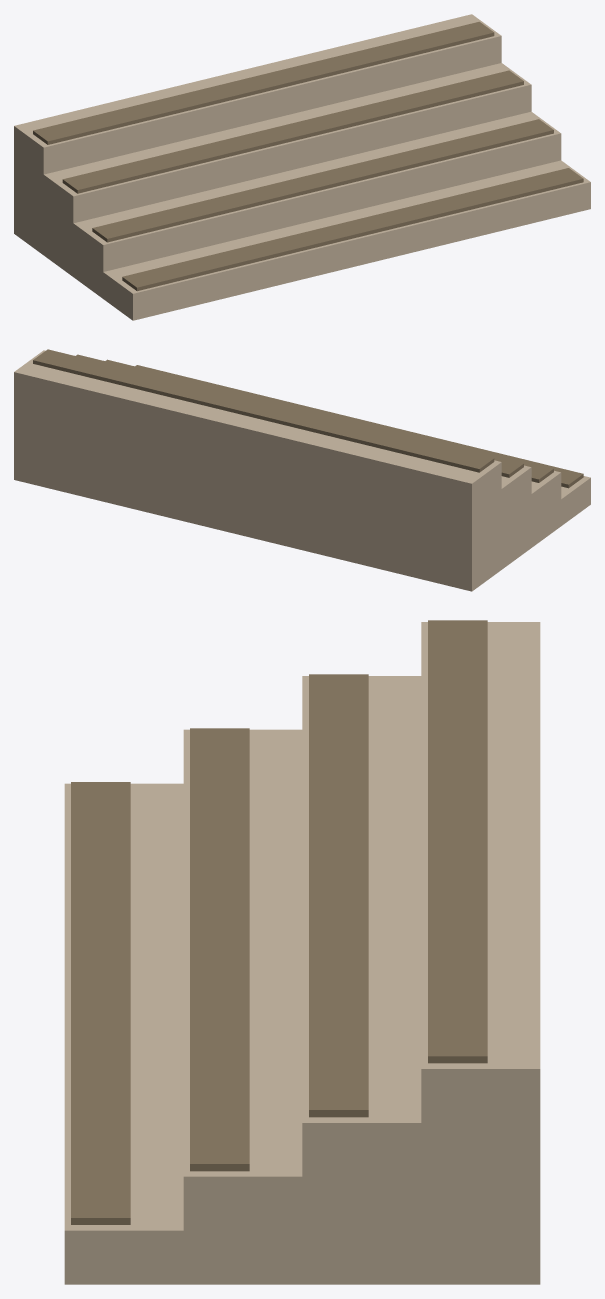
Rendered from city_hall_seating.glb.
The picture shows the model from 3 angles, top to bottom: view 1: azimuth 30°, elevation 25°; view 2: azimuth 150°, elevation 25°; view 3: azimuth 270°, elevation 25°; orthographic projection. The views are drawn at different scales.
Parts seen in each view (by area): view 1: CityHallSeating_Tiers, CityHallSeating_Seat0, CityHallSeating_Seat3, CityHallSeating_Seat2, CityHallSeating_Seat1; view 2: CityHallSeating_Tiers, CityHallSeating_Seat3, CityHallSeating_Seat2, CityHallSeating_Seat1, CityHallSeating_Seat0; view 3: CityHallSeating_Tiers, CityHallSeating_Seat1, CityHallSeating_Seat2, CityHallSeating_Seat3, CityHallSeating_Seat0.
Boxes of the visible parts, bbox=[...] form: CityHallSeating_Tiers: bbox=[14, 14, 590, 320]; CityHallSeating_Seat0: bbox=[122, 168, 583, 291]; CityHallSeating_Seat3: bbox=[33, 21, 494, 144]; CityHallSeating_Seat2: bbox=[62, 70, 523, 193]; CityHallSeating_Seat1: bbox=[92, 119, 553, 242]; CityHallSeating_Tiers: bbox=[14, 350, 590, 591]; CityHallSeating_Seat3: bbox=[33, 349, 494, 472]; CityHallSeating_Seat2: bbox=[76, 354, 523, 477]; CityHallSeating_Seat1: bbox=[105, 359, 553, 482]; CityHallSeating_Seat0: bbox=[135, 365, 583, 488]; CityHallSeating_Tiers: bbox=[64, 622, 540, 1284]; CityHallSeating_Seat1: bbox=[190, 728, 249, 1171]; CityHallSeating_Seat2: bbox=[309, 674, 368, 1117]; CityHallSeating_Seat3: bbox=[428, 620, 487, 1063]; CityHallSeating_Seat0: bbox=[71, 782, 130, 1224].
Size of the model in its own units: 8 by 1.86 by 3.6.
